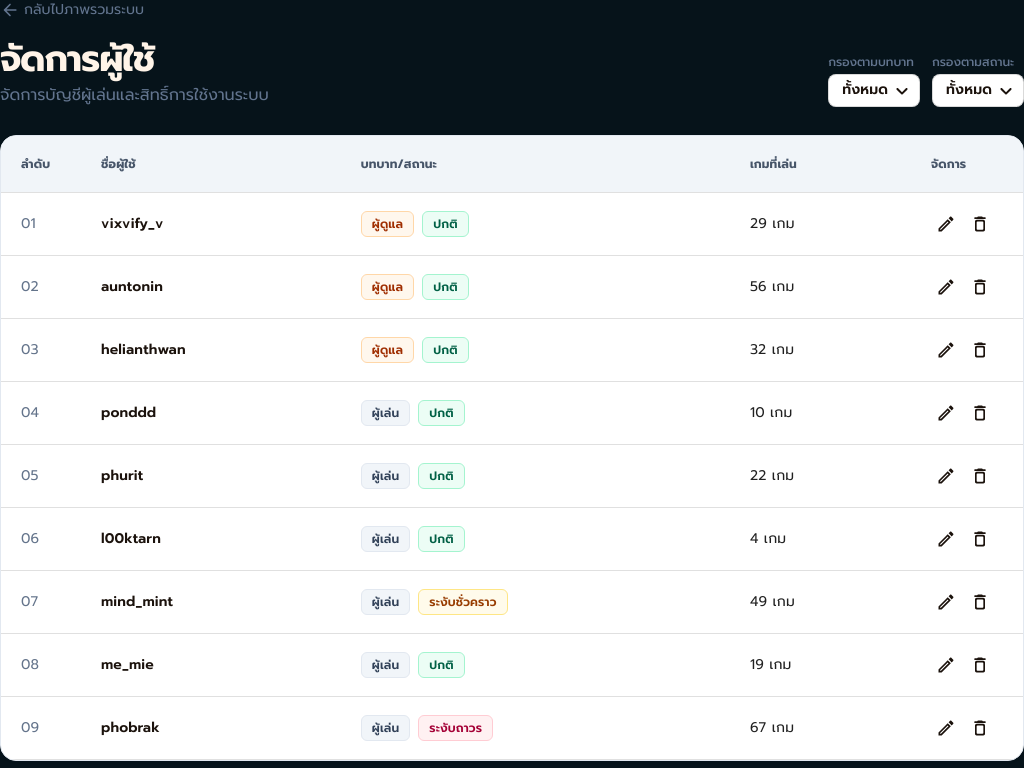
Test: admin users › asks before discarding edited values from the cancel button
Click the button named "แก้ไข vixvify_v".
click(946, 224)  # box x1=931 y1=209 x2=961 y2=239
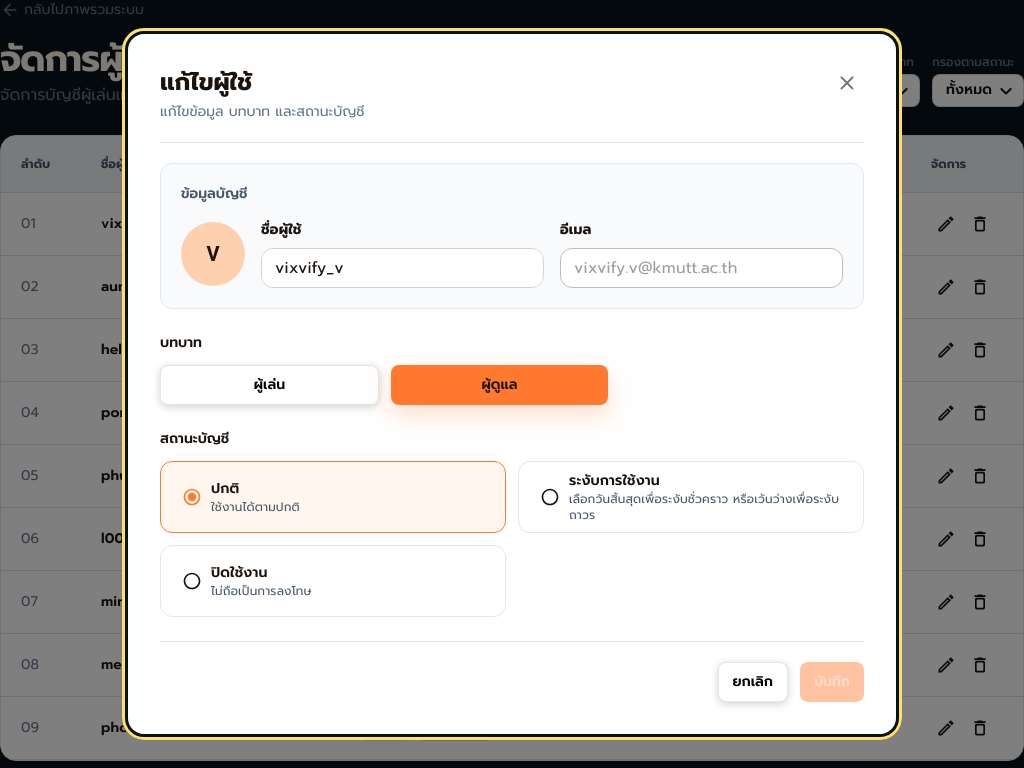
Replace the text in the field labelled "ชื่อผู้ใช้" with "New Admin" at (402, 268), box x1=261 y1=249 x2=544 y2=288
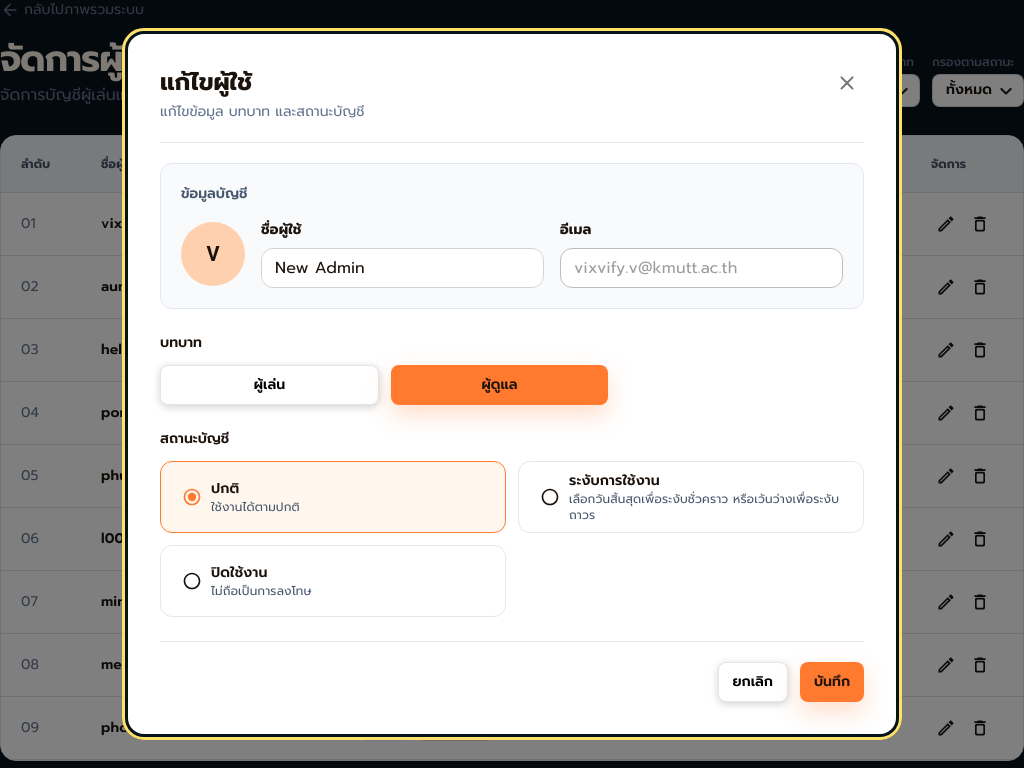
Expected: the button "บันทึก" is enabled, x1=800 y1=662 x2=864 y2=702
Click the button "ยกเลิก".
click(753, 682)  # box x1=718 y1=662 x2=788 y2=702
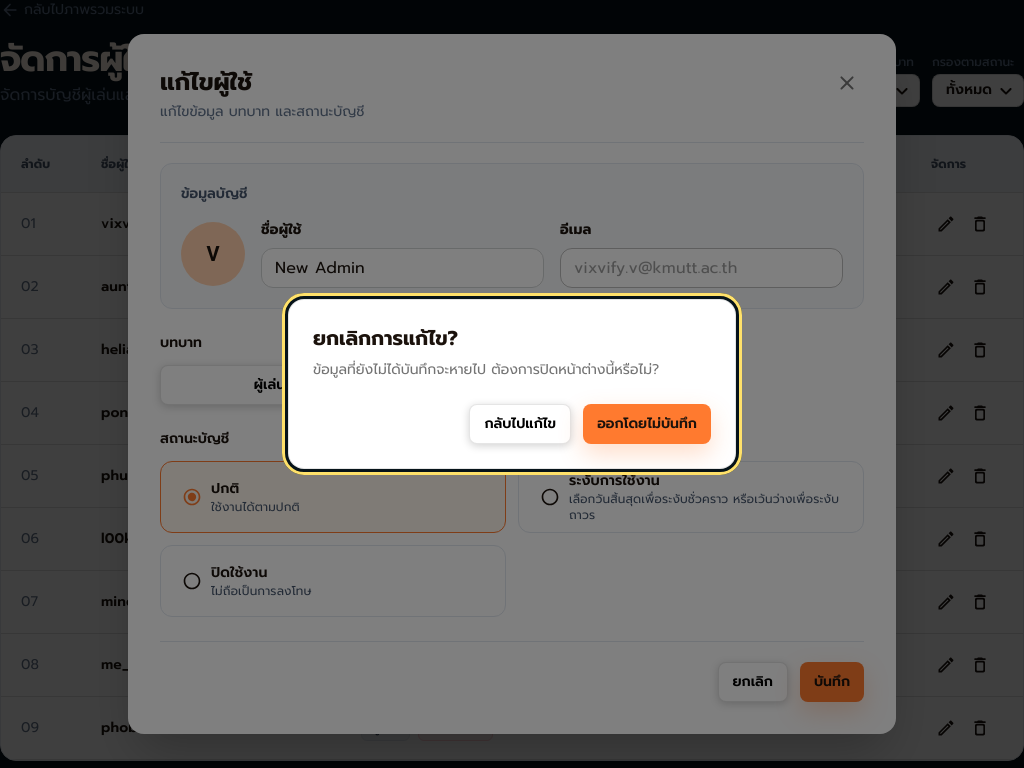
Click the button "กลับไปแก้ไข".
click(520, 424)  # box x1=469 y1=404 x2=571 y2=444
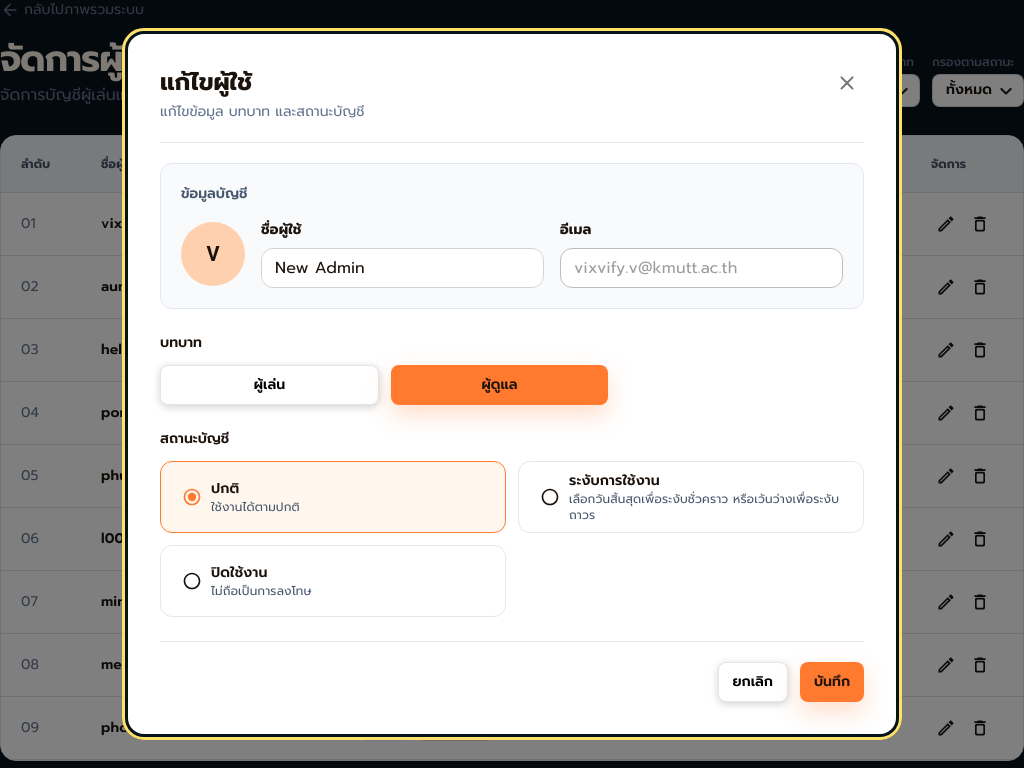
Click the button "ยกเลิก".
click(753, 682)  # box x1=718 y1=662 x2=788 y2=702
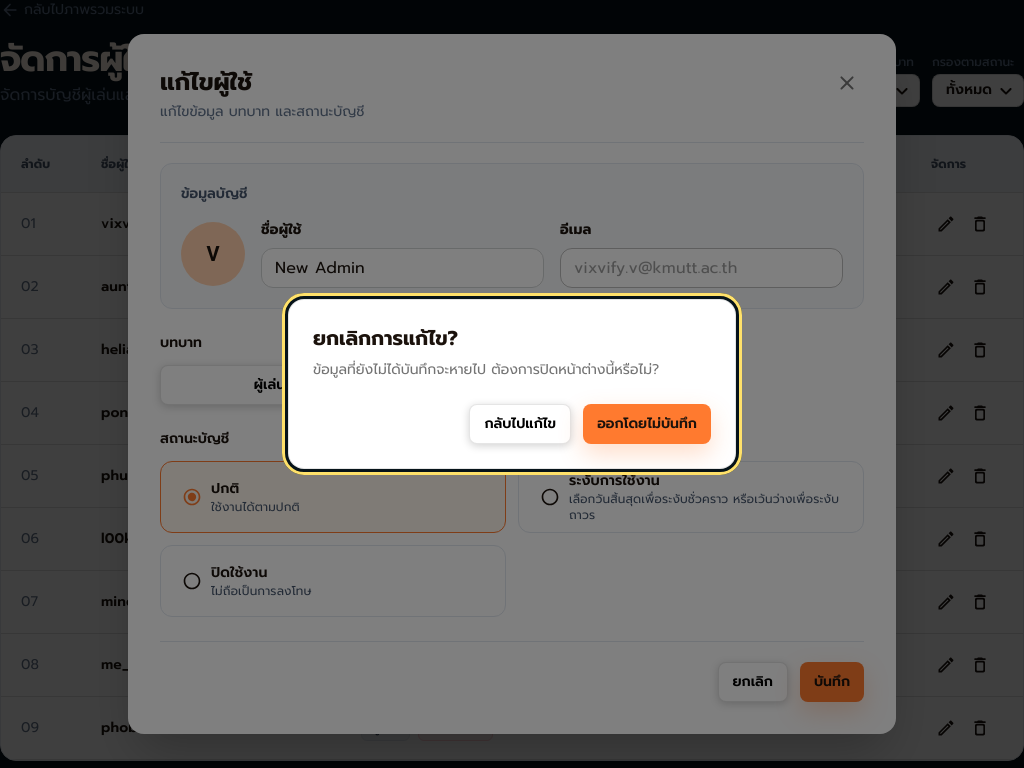
Click the button "ออกโดยไม่บันทึก".
click(647, 424)  # box x1=583 y1=404 x2=711 y2=444
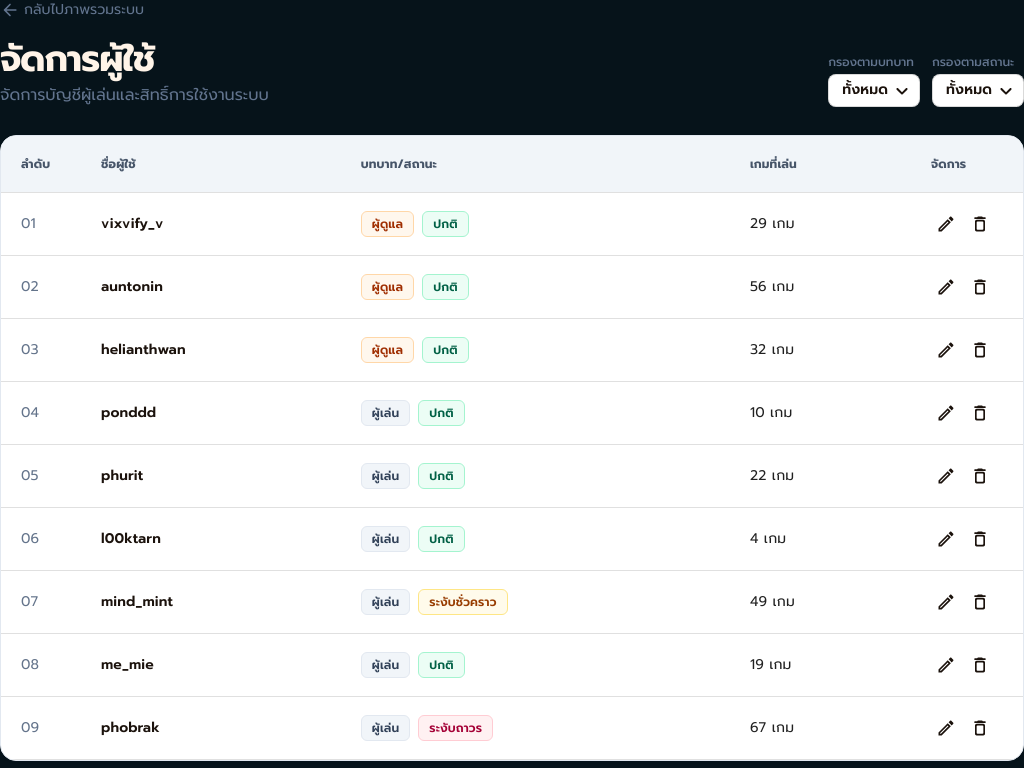
Expected: the heading "แก้ไขผู้ใช้" is gone
